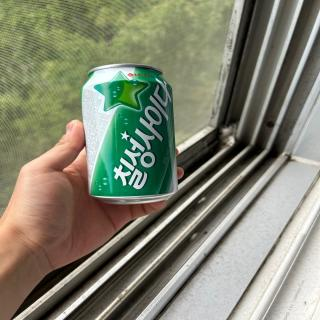cocacola: (81, 62, 180, 205)
